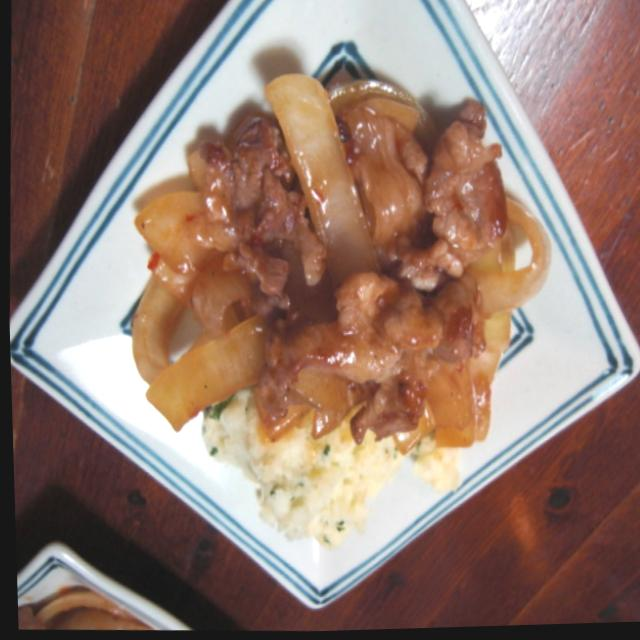猪肉菜式: (115, 56, 557, 556)
